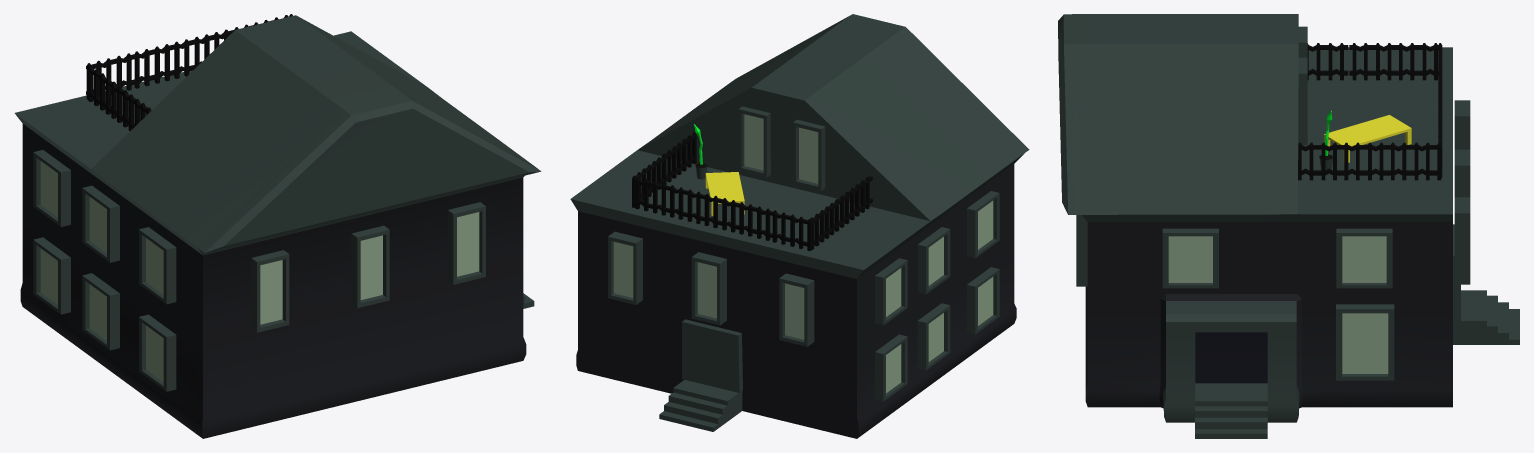
Rendered from Clean_suburb_3.FBX.
The picture shows the model from 3 angles, left to right: view 1: azimuth 30°, elevation 25°; view 2: azimuth 150°, elevation 25°; view 3: azimuth 270°, elevation 25°; orthographic projection. The views are drawn at different scales.
Visible parts, largest first — view 1: Box018, Box019, Box035, Box033; view 2: Box018, Box019, Box033, Box035, Box034, Box036; view 3: Box018, Box019, Box034, Box035, Box036, Box033.
Part boxes in pixels (<box>): Box018: <box>14,15,541,438</box>; Box019: <box>33,150,485,391</box>; Box035: <box>86,53,151,130</box>; Box033: <box>132,15,288,88</box>; Box018: <box>570,14,1029,438</box>; Box019: <box>608,106,999,401</box>; Box033: <box>632,176,771,240</box>; Box035: <box>769,176,872,250</box>; Box034: <box>632,131,696,207</box>; Box036: <box>705,172,744,215</box>; Box018: <box>1058,14,1519,438</box>; Box019: <box>1076,26,1470,380</box>; Box034: <box>1298,142,1441,180</box>; Box035: <box>1307,43,1442,80</box>; Box036: <box>1324,115,1411,162</box>; Box033: <box>1438,66,1442,177</box>.
Bounding box in the file's own units: 5.53 × 4.01 × 5.54.
